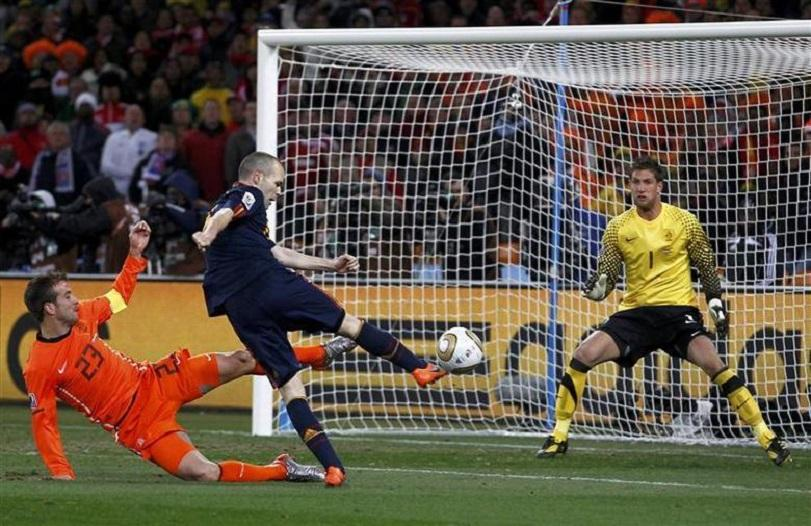ballon_football: (435, 326, 484, 376)
